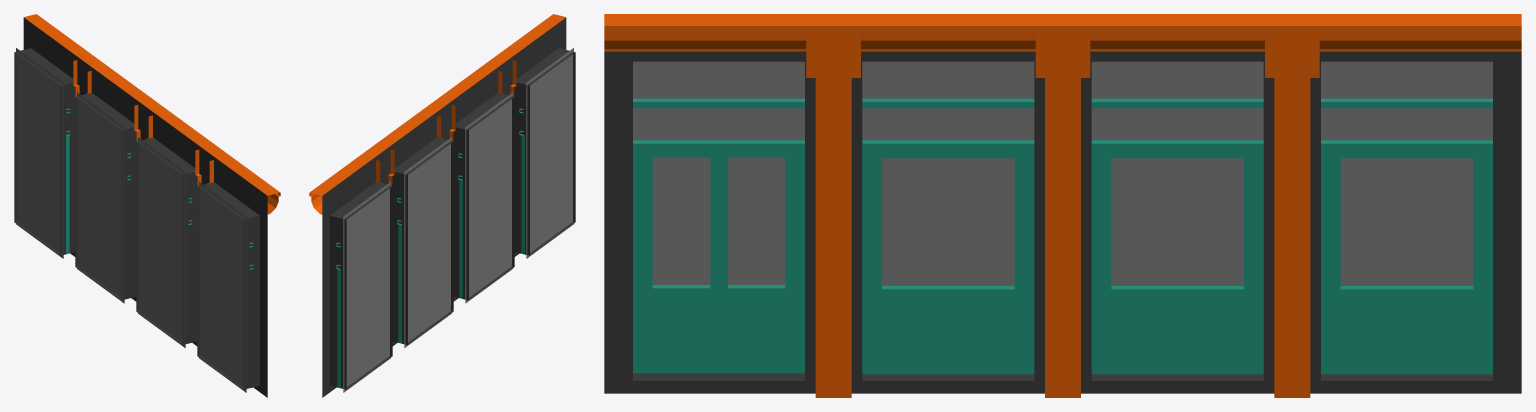
The model's file is SM_B_Build_01.fbx.
3 renders of one model, left to right at view 1: azimuth 30°, elevation 25°; view 2: azimuth 150°, elevation 25°; view 3: azimuth 270°, elevation 25°, orthographic. The views are drawn at different scales.
Visible parts, largest first — view 1: SM_B_Build_01, Box014, Box057, Box047, Box046, Box048; view 2: SM_B_Build_01, Box014, Box051, Box056, Box057, Box055, Box047, Box046, Box048; view 3: SM_B_Build_01, Box014, Box051, Box056, Box055, Box057, Box046, Box048, Box047, Box052, Box053, Box049 (+1 smaller).
Part boxes in pixels (left/top/right/bottom): SM_B_Build_01: left=14, top=17, right=267, bottom=397; Box014: left=24, top=14, right=280, bottom=214; Box057: left=66, top=135, right=69, bottom=254; Box047: left=134, top=105, right=152, bottom=141; Box046: left=195, top=149, right=213, bottom=185; Box048: left=73, top=60, right=91, bottom=96; SM_B_Build_01: left=322, top=17, right=575, bottom=397; Box014: left=309, top=14, right=565, bottom=214; Box051: left=521, top=135, right=524, bottom=254; Box056: left=398, top=224, right=401, bottom=343; Box057: left=337, top=269, right=340, bottom=388; Box055: left=459, top=180, right=462, bottom=298; Box047: left=437, top=105, right=455, bottom=141; Box046: left=498, top=60, right=516, bottom=96; Box048: left=376, top=149, right=394, bottom=185; SM_B_Build_01: left=604, top=51, right=1521, bottom=393; Box014: left=604, top=14, right=1521, bottom=51; Box051: left=633, top=150, right=804, bottom=373; Box056: left=1091, top=150, right=1263, bottom=374; Box055: left=862, top=150, right=1034, bottom=374; Box057: left=1321, top=150, right=1492, bottom=374; Box046: left=806, top=32, right=860, bottom=397; Box048: left=1265, top=32, right=1319, bottom=397; Box047: left=1035, top=32, right=1090, bottom=397; Box052: left=862, top=98, right=1034, bottom=149; Box053: left=1091, top=98, right=1263, bottom=149; Box049: left=633, top=98, right=804, bottom=149.
Size of the model in its own units: 80.66 by 521 by 1140.
